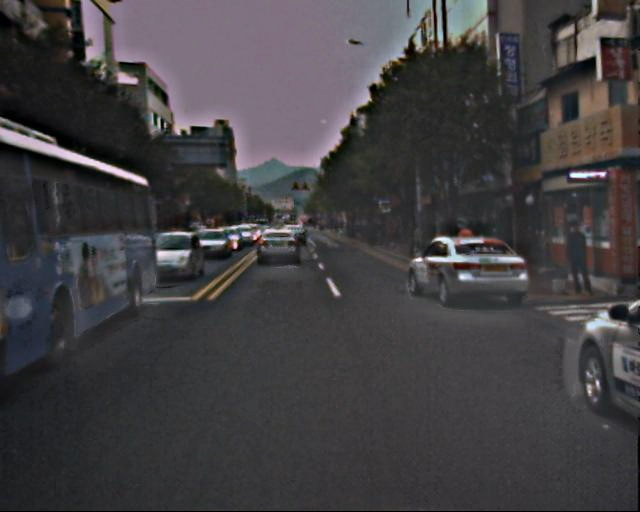person: (559, 220, 593, 293)
